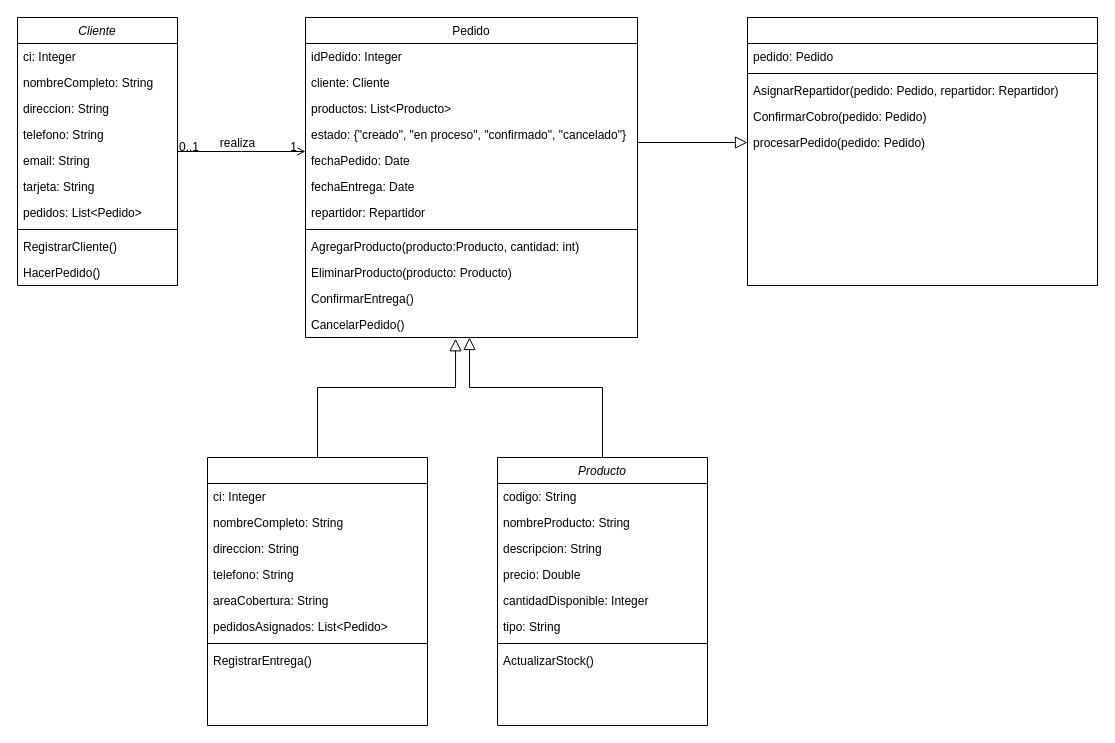
Image size: 1115x743. Some labels were removed from this diagram. Each missing label, with the box of its shape:
Manejo de Pedido: (746, 16, 1098, 286)
Repartidor: (206, 456, 428, 726)
